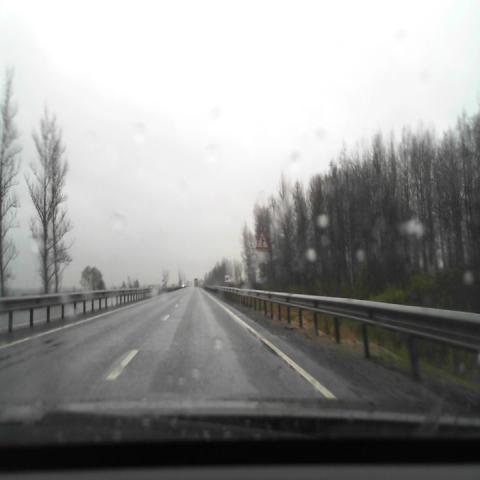2_3_2: (256, 230, 270, 250)
